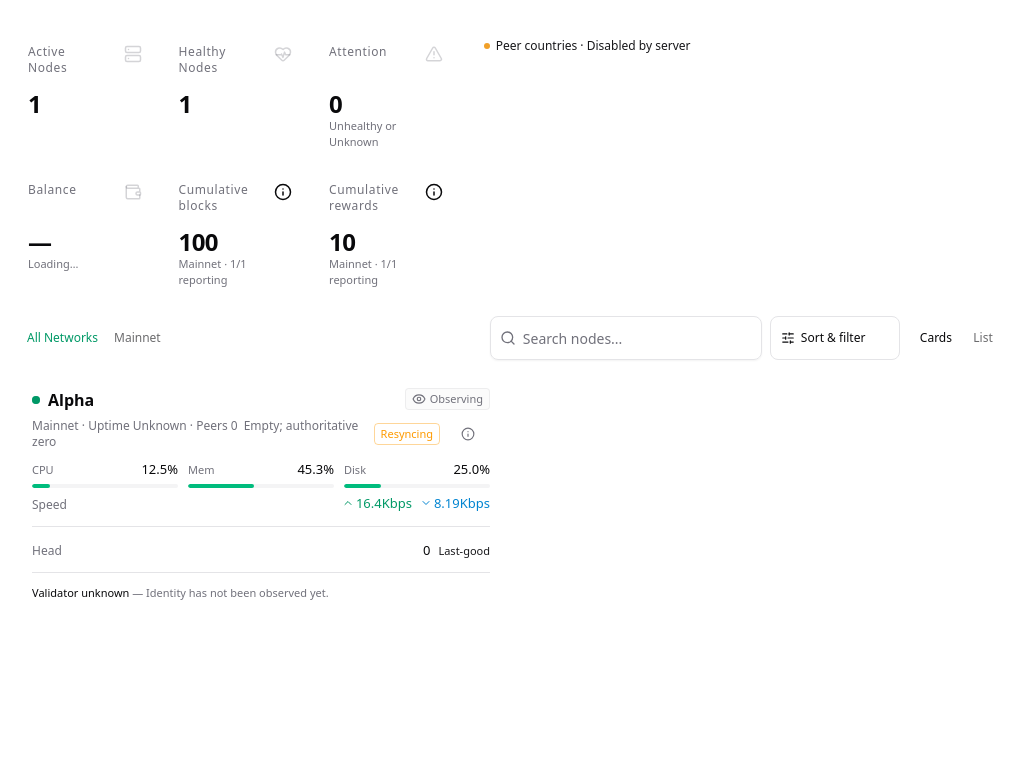
Scenario: Public Home dashboard › renders resync heights safely: 0 / 0 (null)
Click the button "Resyncing". click: (407, 434)
box: x1=374 y1=412 x2=440 y2=456
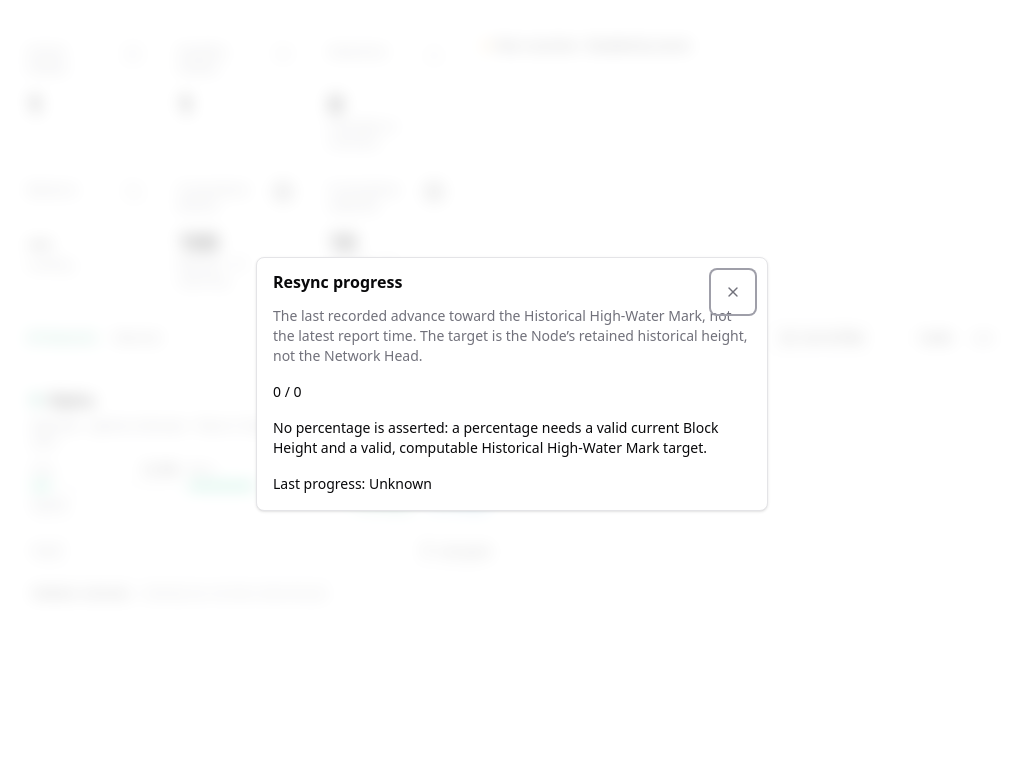
Now the text "0 / 0" is shown, box x1=273 y1=382 x2=302 y2=401
Now the text "No percentage is asserted" is shown, box x1=273 y1=418 x2=718 y2=457
